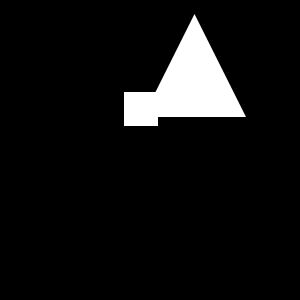circle: (124, 92, 158, 126)
triangle: (143, 14, 246, 117)
